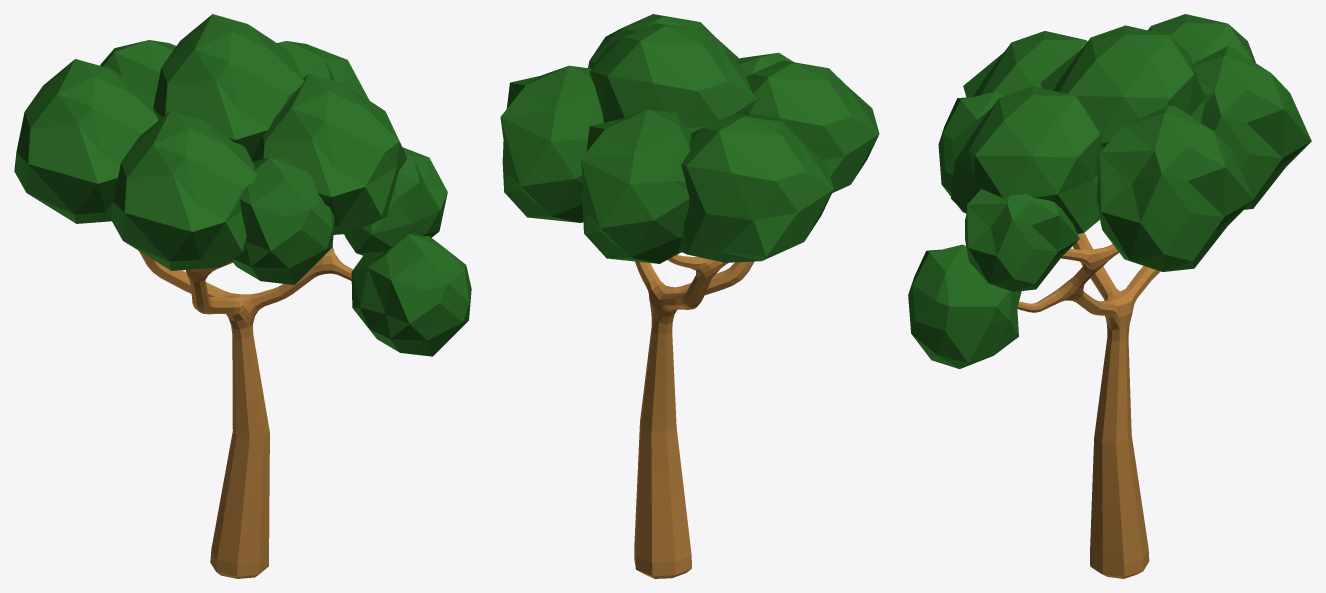
The model's file is tree.124_lev4.glb.
The picture shows the model from 3 angles, left to right: view 1: azimuth 30°, elevation 25°; view 2: azimuth 150°, elevation 25°; view 3: azimuth 270°, elevation 25°; orthographic projection. The views are drawn at different scales.
Visible parts, largest first — view 1: tree.124_lev4; view 2: tree.124_lev4; view 3: tree.124_lev4.
Boxes of the visible parts, x1,y1,x2,y2 form: tree.124_lev4: (14,14,471,578); tree.124_lev4: (500,14,879,578); tree.124_lev4: (908,14,1311,578).
Bounding box in the file's own units: 0.6538 × 1 × 0.687.
